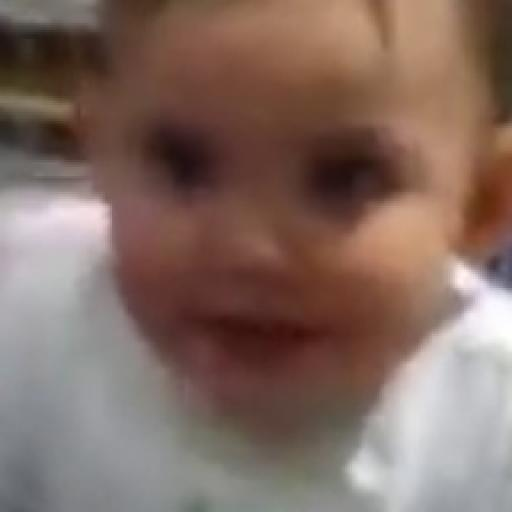Autism: (111, 46, 512, 450)
